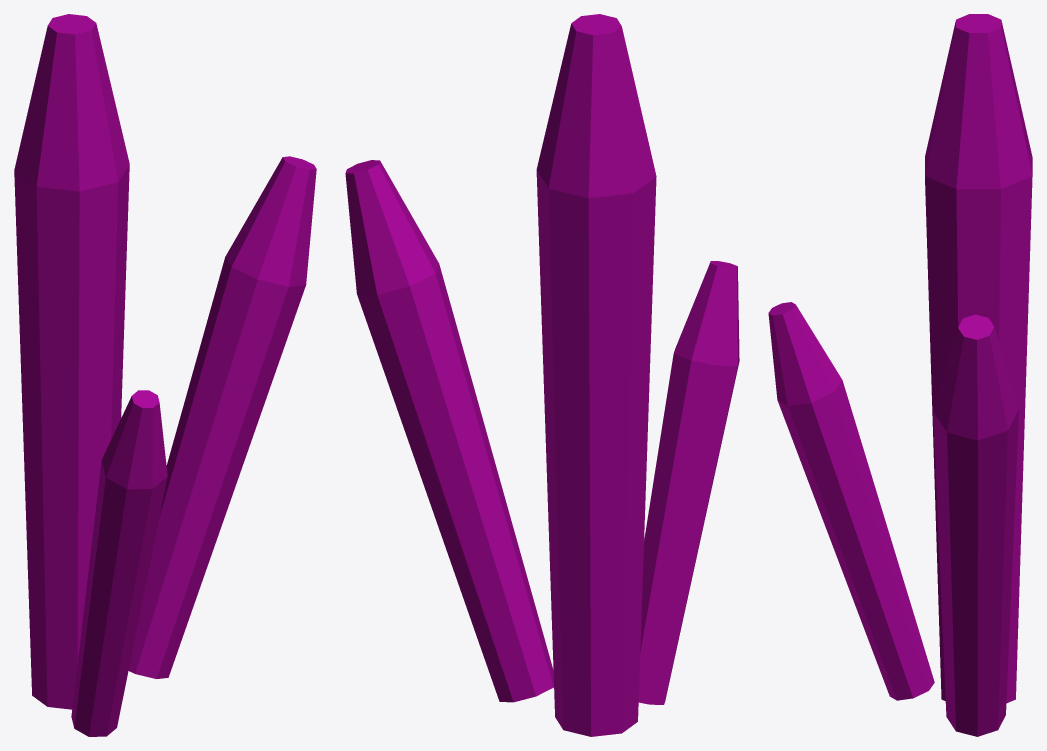
Rendered from Collider_Big_Cactus_001.fbx.
The picture shows the model from 3 angles, left to right: view 1: azimuth 30°, elevation 25°; view 2: azimuth 150°, elevation 25°; view 3: azimuth 270°, elevation 25°; orthographic projection. The views are drawn at different scales.
Visible parts, largest first — view 1: Collider_Big_Cactus_001; view 2: Collider_Big_Cactus_001; view 3: Collider_Big_Cactus_001.
Boxes of the visible parts, x1,y1,x2,y2 form: Collider_Big_Cactus_001: [14, 14, 316, 736]; Collider_Big_Cactus_001: [345, 14, 739, 736]; Collider_Big_Cactus_001: [768, 14, 1032, 736].
Size of the model in its own units: 1.36 by 3.02 by 1.07.
